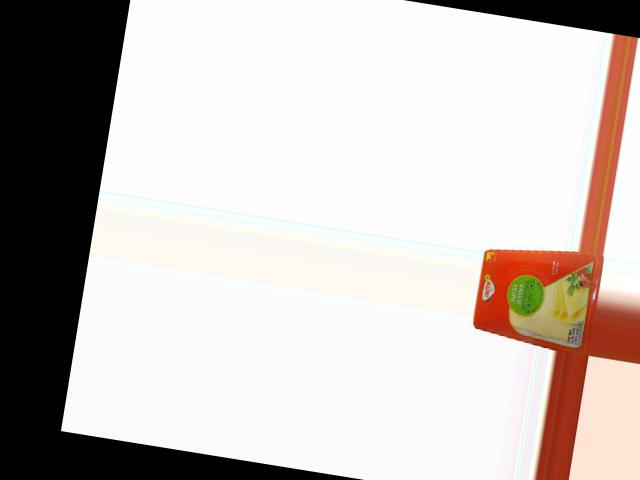cheese: (471, 236, 605, 353)
